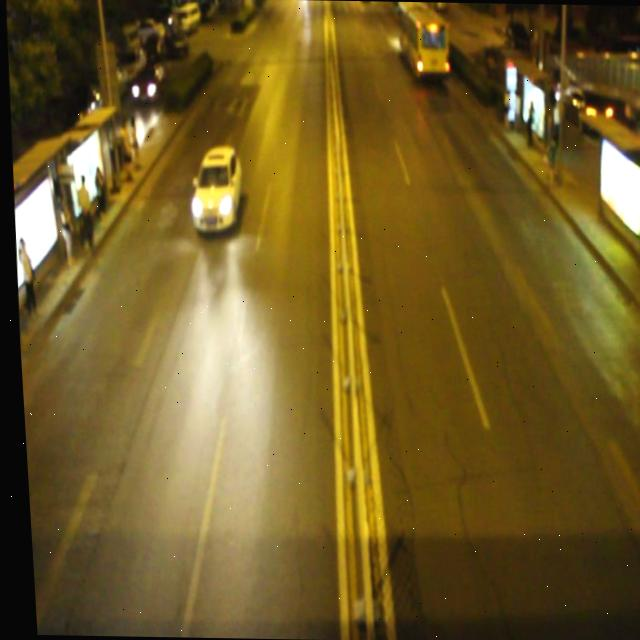car: (184, 144, 243, 236)
van: (395, 1, 450, 80)
